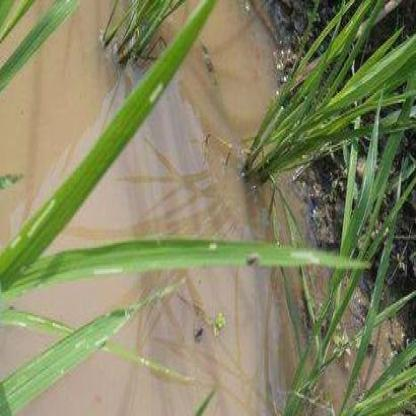rice-bug: (193, 322, 205, 342), (246, 251, 260, 267)
